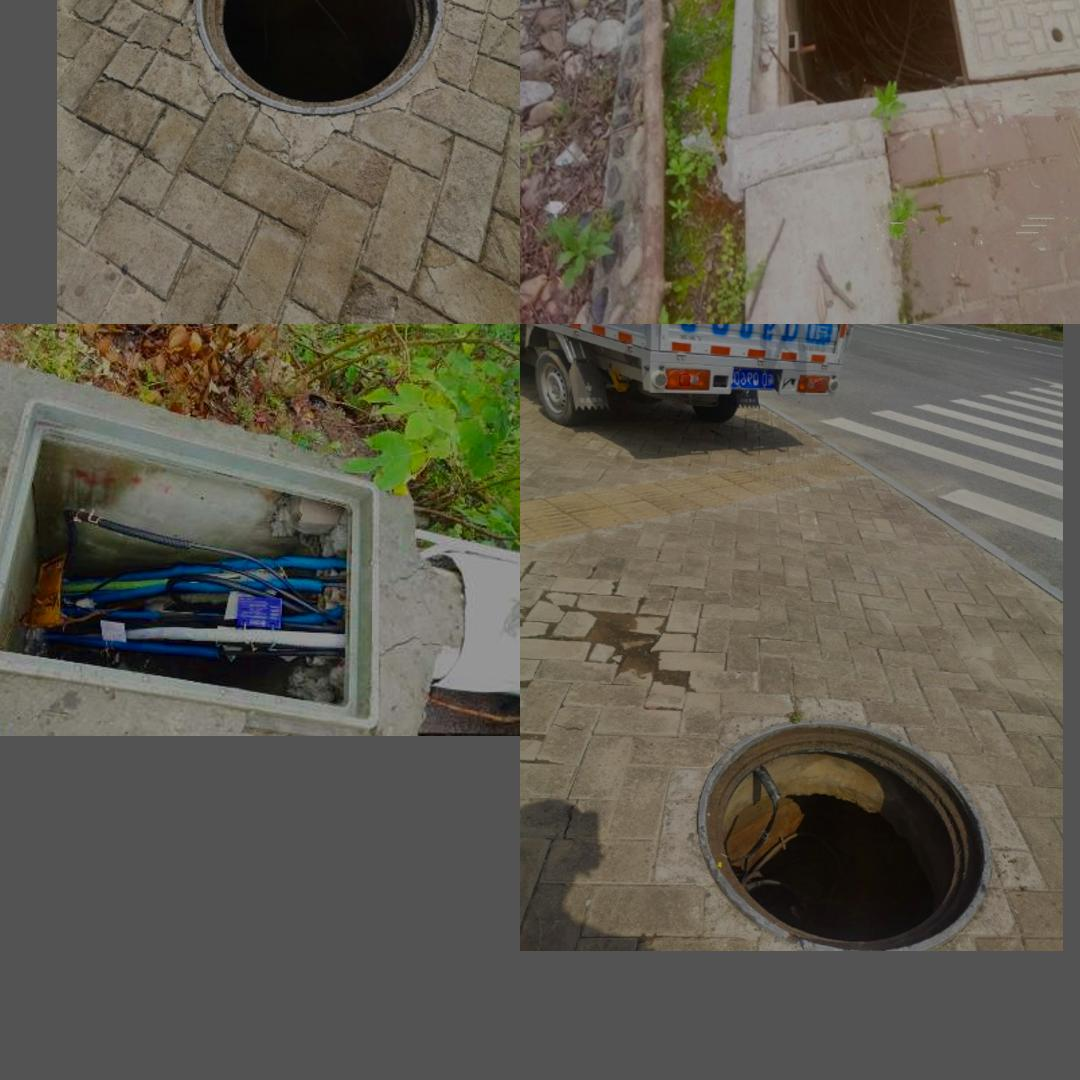lose: (0, 398, 380, 730), (670, 727, 1001, 948), (726, 0, 1080, 138), (194, 0, 442, 112)
